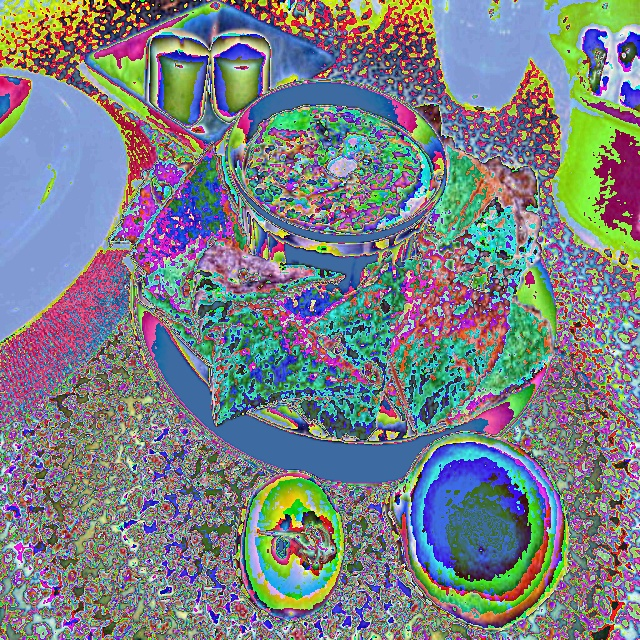background: (183, 204, 572, 633), (109, 104, 556, 441), (106, 150, 347, 619), (194, 105, 436, 234)
